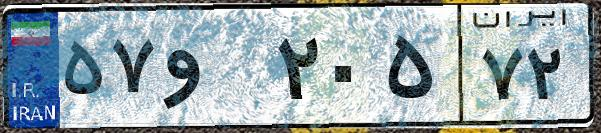0: (330, 28, 385, 110)
2: (270, 28, 330, 110), (525, 38, 570, 115)
5: (385, 28, 445, 110), (57, 26, 110, 100)
7: (475, 38, 525, 113), (110, 28, 158, 98)
و: (158, 20, 270, 120)
